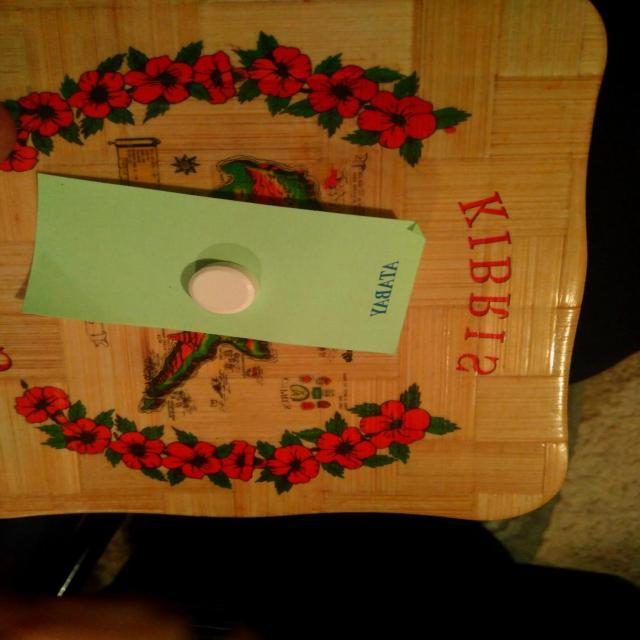pill: (188, 260, 255, 317)
